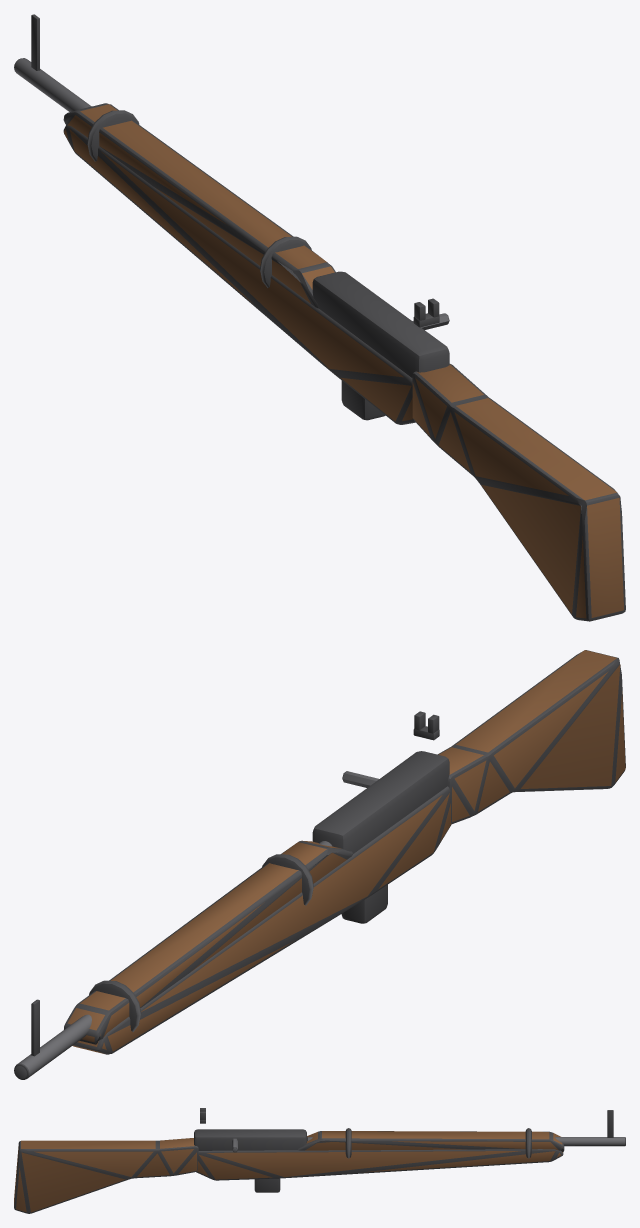
File: enfield.glb
3 views of the same model, one above another, from view 1: azimuth 30°, elevation 25°; view 2: azimuth 150°, elevation 25°; view 3: azimuth 270°, elevation 25° (orthographic). The views are drawn at different scales.
Parts seen in each view (by area): view 1: enfield_LOD0; view 2: enfield_LOD0; view 3: enfield_LOD0.
Part boxes in pixels (x1,y1,x2,y2): enfield_LOD0: (14, 14, 625, 621); enfield_LOD0: (14, 650, 625, 1079); enfield_LOD0: (14, 1108, 625, 1213).
Size of the model in its own units: 0.091 by 0.2132 by 1.19.
